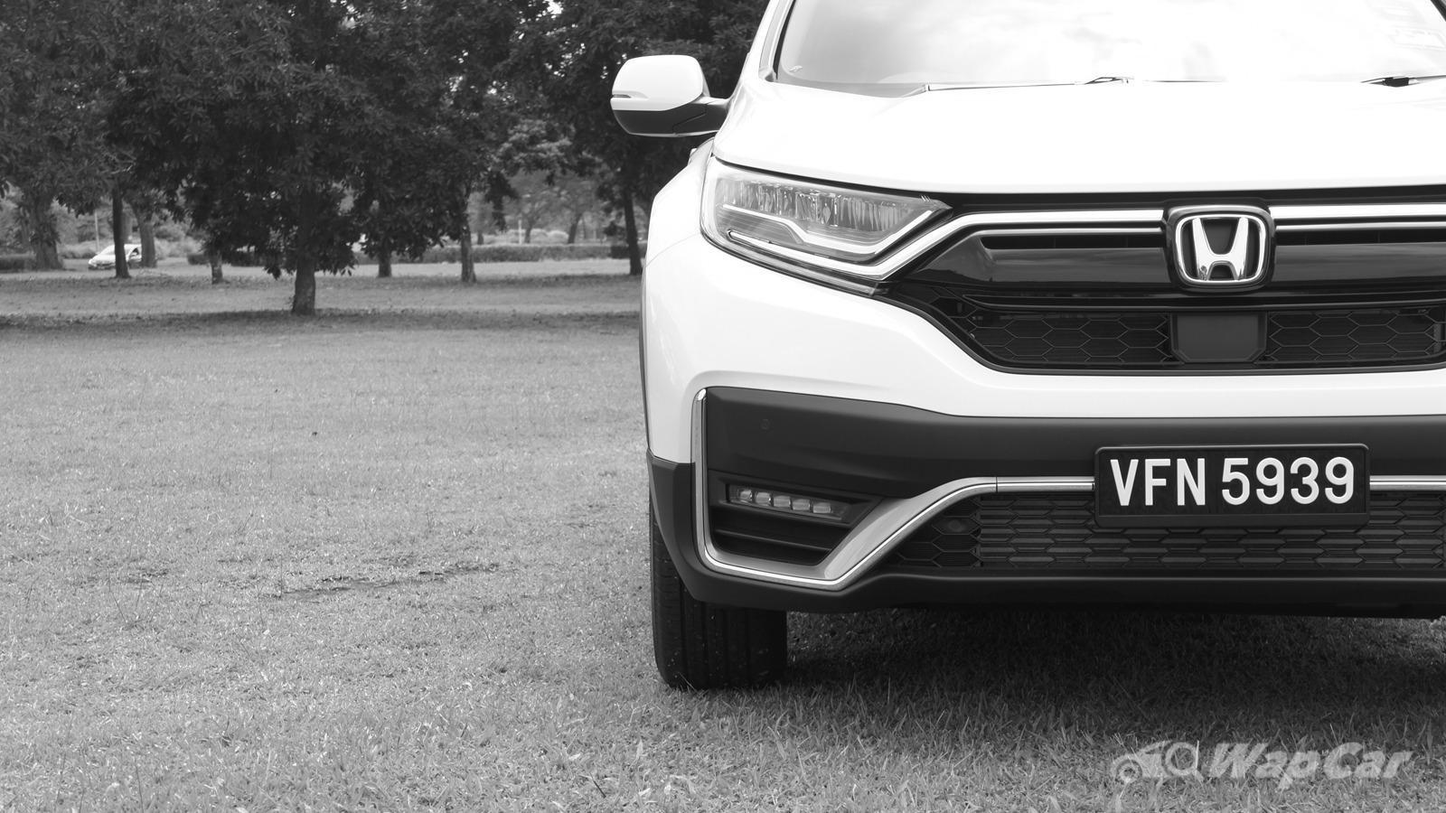Car hood: (718, 74, 1446, 213)
Front bumper: (625, 250, 1446, 629)
Headlight - -R-: (697, 147, 958, 294)
Side mirror - -R-: (609, 49, 735, 145)
